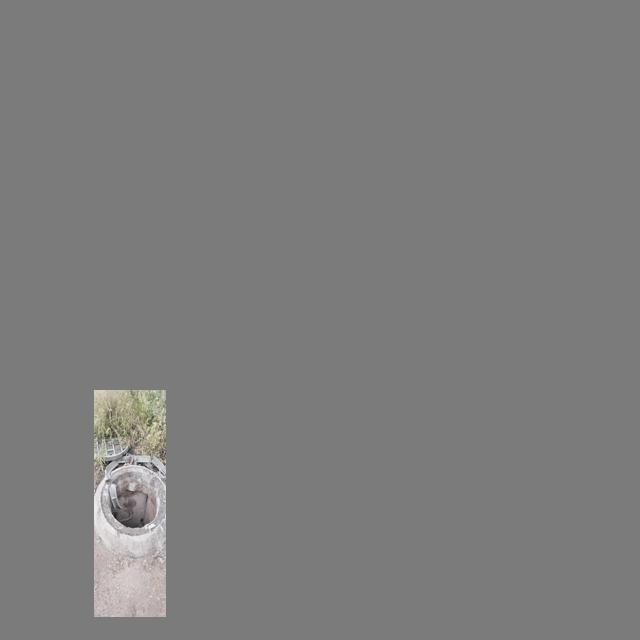uncovered: (95, 412, 163, 557)
